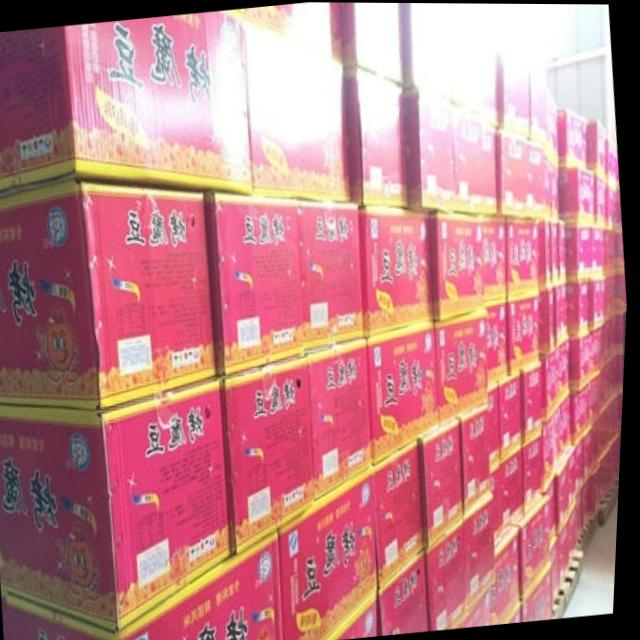box: (2, 372, 236, 630), (0, 174, 219, 412), (0, 10, 252, 192), (15, 524, 286, 640), (241, 22, 353, 202), (206, 190, 307, 376), (228, 355, 319, 554), (283, 465, 383, 640), (405, 2, 499, 130), (370, 320, 441, 465), (311, 335, 374, 498), (299, 199, 365, 350), (360, 207, 436, 336), (346, 66, 410, 206), (217, 2, 343, 63), (377, 440, 429, 587), (402, 88, 456, 212), (437, 312, 489, 428), (432, 211, 487, 319), (424, 417, 468, 548), (340, 2, 404, 86), (431, 516, 471, 628), (465, 491, 502, 611), (383, 550, 435, 633), (450, 98, 485, 216), (463, 402, 494, 514), (492, 522, 525, 622), (522, 495, 556, 592), (498, 54, 529, 145), (497, 130, 529, 217), (507, 218, 540, 301), (511, 291, 541, 376), (539, 280, 571, 353), (523, 429, 550, 511), (486, 299, 511, 387), (501, 372, 526, 459), (560, 501, 586, 581), (483, 217, 508, 300), (561, 166, 595, 226), (504, 445, 528, 526), (558, 110, 589, 170), (527, 560, 558, 619), (523, 361, 544, 443), (454, 590, 496, 628), (556, 392, 576, 471), (483, 121, 498, 215), (568, 224, 592, 280), (529, 72, 547, 144), (571, 332, 591, 392), (570, 278, 591, 335), (543, 351, 559, 424), (545, 411, 560, 484), (491, 382, 505, 460), (574, 382, 592, 442), (588, 124, 607, 180), (559, 456, 573, 529), (558, 338, 572, 411), (540, 218, 553, 288), (590, 228, 607, 279), (550, 474, 562, 546), (594, 173, 609, 230), (567, 448, 580, 512), (554, 539, 564, 602), (560, 221, 570, 284), (551, 221, 561, 283), (577, 437, 588, 492)
